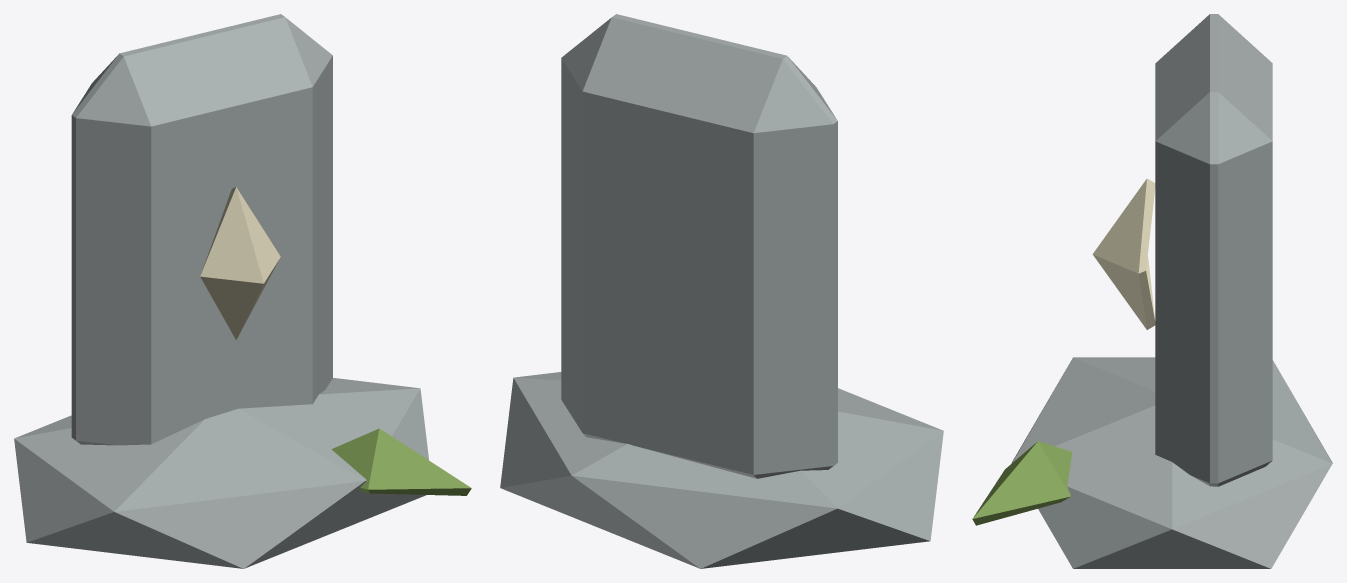
Rendered from CC_Tombstone.fbx.
The picture shows the model from 3 angles, left to right: view 1: azimuth 30°, elevation 25°; view 2: azimuth 150°, elevation 25°; view 3: azimuth 270°, elevation 25°; orthographic projection. The views are drawn at different scales.
Parts seen in each view (by area): view 1: Memorial stone, Foundation, Carved leaf, Offering; view 2: Memorial stone, Foundation; view 3: Memorial stone, Foundation, Carved leaf, Offering.
Boxes of the visible parts, <box> form: Memorial stone: <box>71,14,332,445</box>; Foundation: <box>14,378,428,568</box>; Carved leaf: <box>200,187,280,339</box>; Offering: <box>331,428,471,495</box>; Memorial stone: <box>561,14,837,478</box>; Foundation: <box>500,372,943,568</box>; Memorial stone: <box>1155,14,1272,486</box>; Foundation: <box>1011,357,1332,568</box>; Carved leaf: <box>1092,178,1155,329</box>; Offering: <box>972,441,1072,525</box>.
Size of the model in its own units: 1.61 by 1.87 by 1.29.
